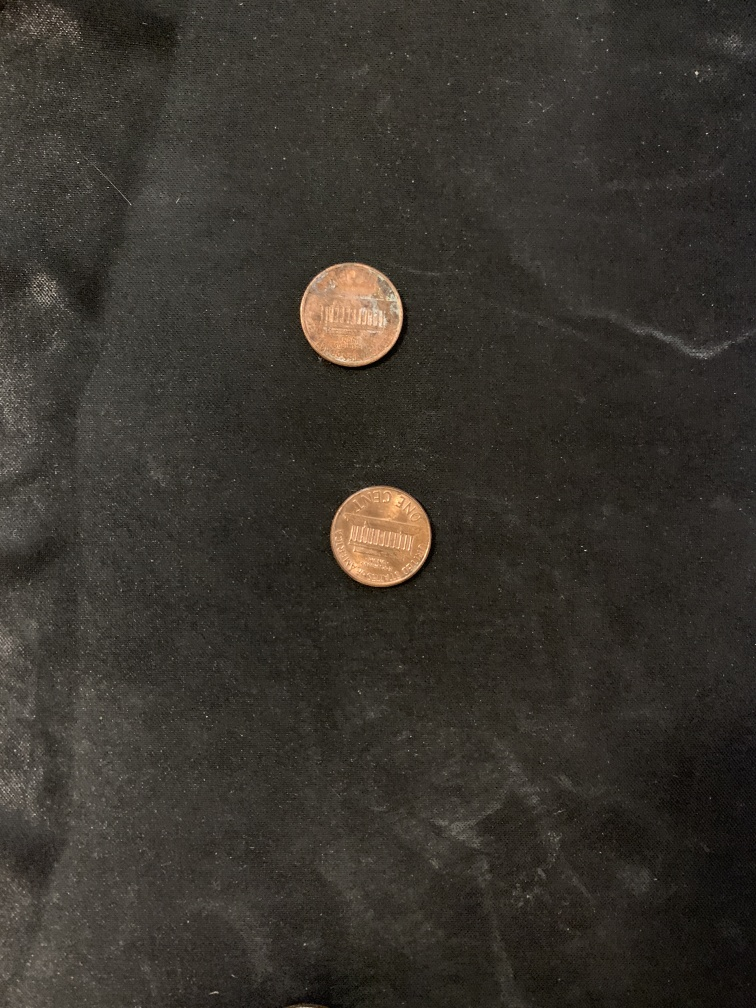penny: (325, 479, 436, 597), (296, 258, 409, 373)
